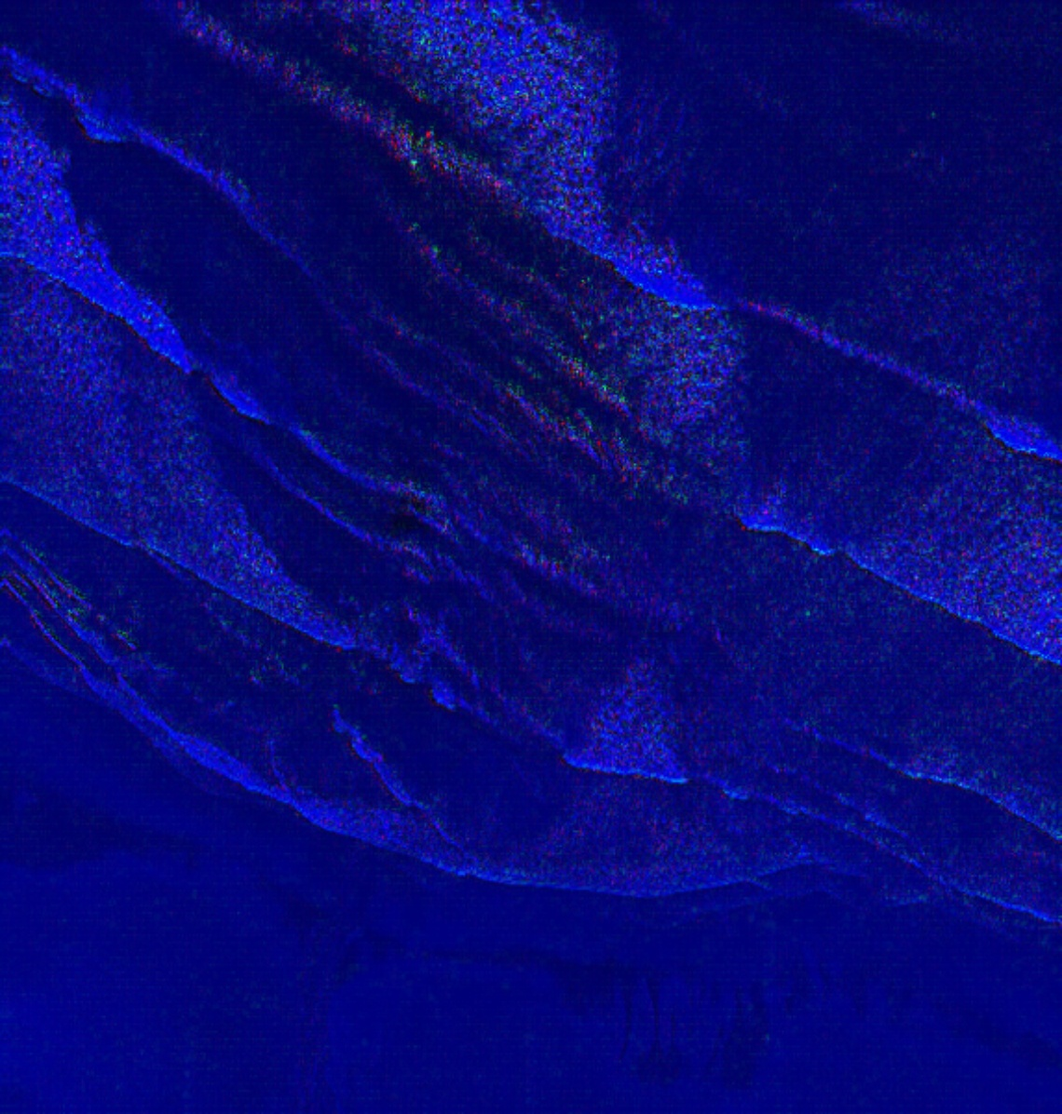rip_current: (211, 97, 841, 833)
